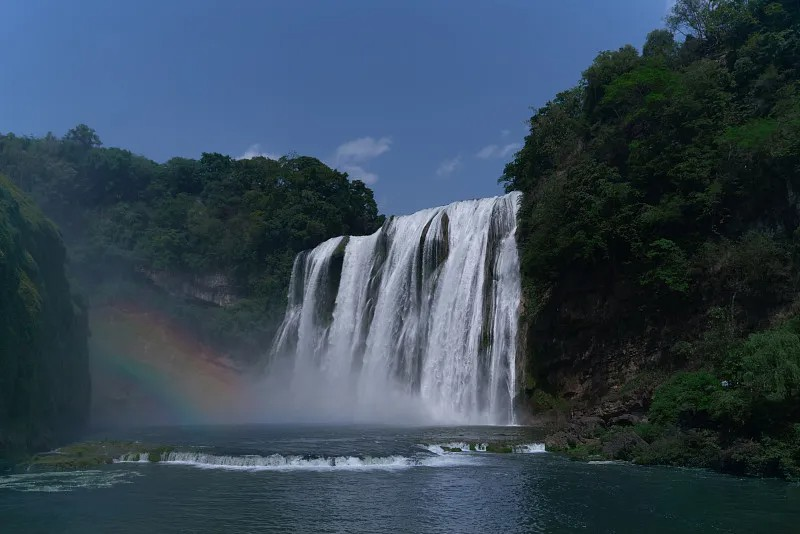Huangguoshu: (265, 190, 523, 426)
